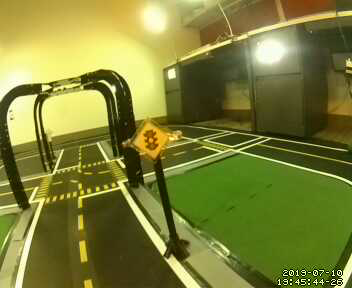Traffic light sign: (131, 121, 171, 159)
